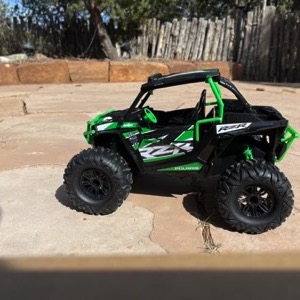polaris: (62, 68, 298, 236)
